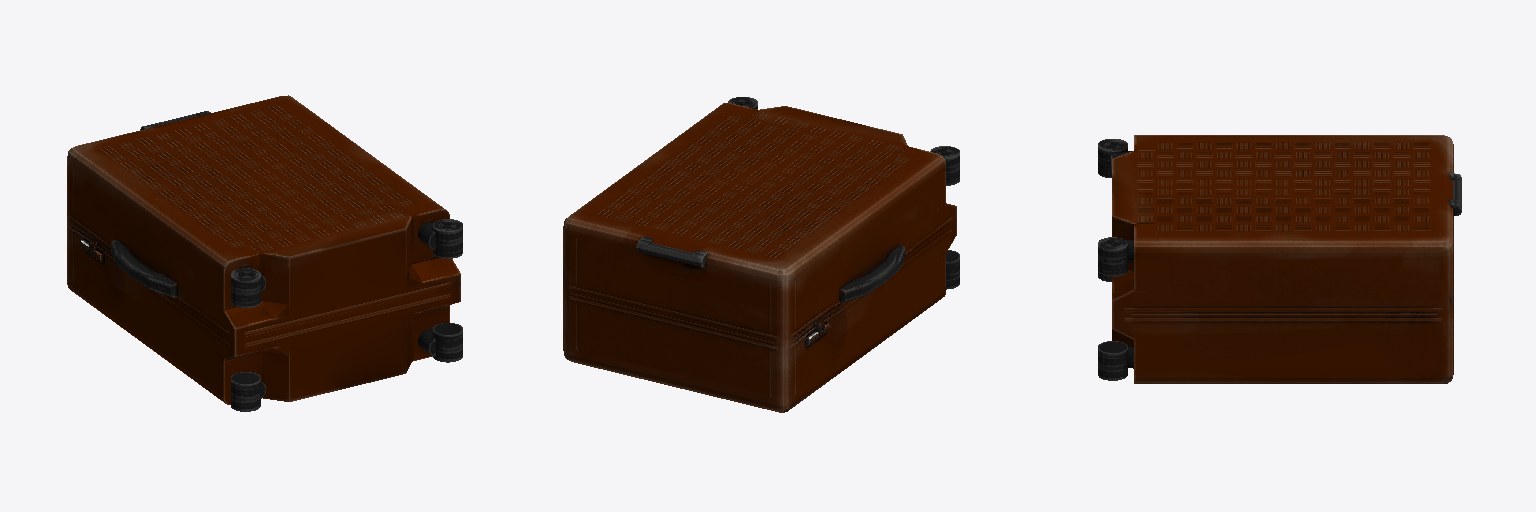
The picture shows the model from 3 angles: view 1: azimuth 30°, elevation 25°; view 2: azimuth 150°, elevation 25°; view 3: azimuth 270°, elevation 25°; orthographic projection.
Parts seen in each view (by area): view 1: Object001; view 2: Object001; view 3: Object001.
Part boxes in pixels (bbox=[...]): Object001: bbox=[67, 95, 462, 411]; Object001: bbox=[563, 97, 959, 412]; Object001: bbox=[1098, 135, 1461, 383].
Bounding box in the file's own units: 658 × 374 × 852.
1 materials, 1 textured.